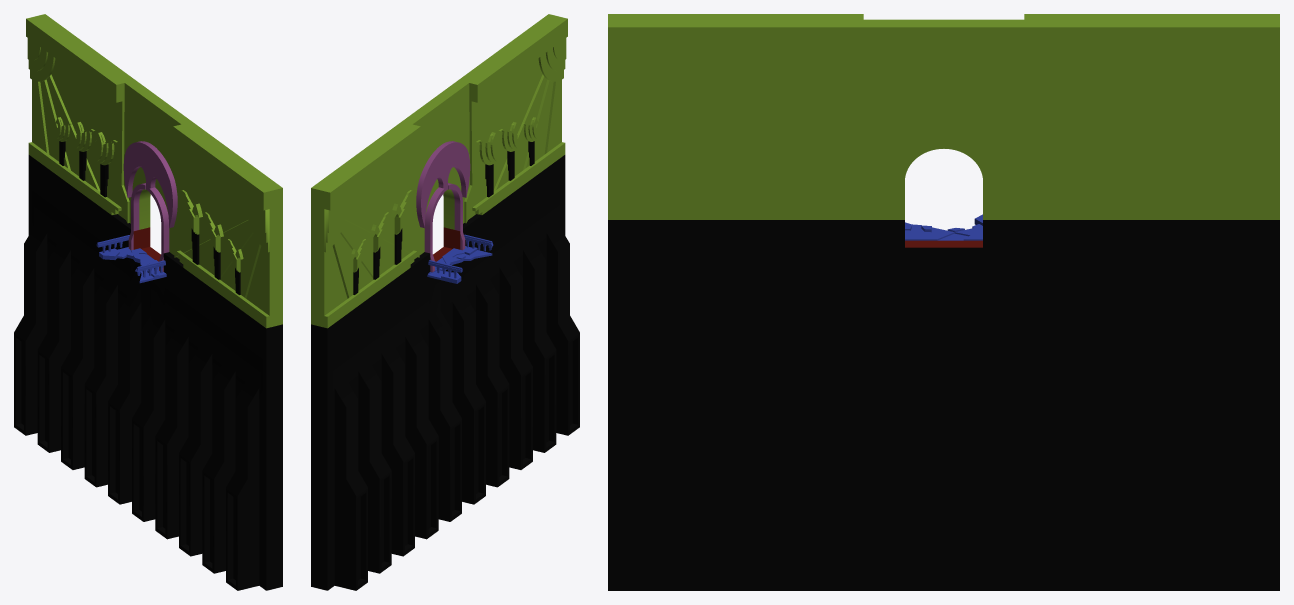
The model's file is SM_Entrance_wall_V2.fbx.
3 renders of one model, left to right at view 1: azimuth 30°, elevation 25°; view 2: azimuth 150°, elevation 25°; view 3: azimuth 270°, elevation 25°, orthographic. The views are drawn at different scales.
Visible parts, largest first — view 1: Box032, Plane003, Cylinder007, rammpe004; view 2: Box032, Plane003, Cylinder007, rammpe004; view 3: Box032, Plane003, rammpe004.
Part boxes in pixels (bbox=[...]): Box032: bbox=[14, 155, 282, 590]; Plane003: bbox=[26, 14, 282, 328]; Cylinder007: bbox=[123, 141, 177, 271]; rammpe004: bbox=[96, 235, 166, 283]; Box032: bbox=[311, 155, 579, 590]; Plane003: bbox=[311, 14, 567, 328]; Cylinder007: bbox=[416, 141, 470, 272]; rammpe004: bbox=[427, 234, 493, 283]; Box032: bbox=[608, 220, 1279, 590]; Plane003: bbox=[608, 14, 1279, 219]; rammpe004: bbox=[905, 214, 982, 240].
Bounding box in the file's own units: 1084 × 5198 × 5615.
